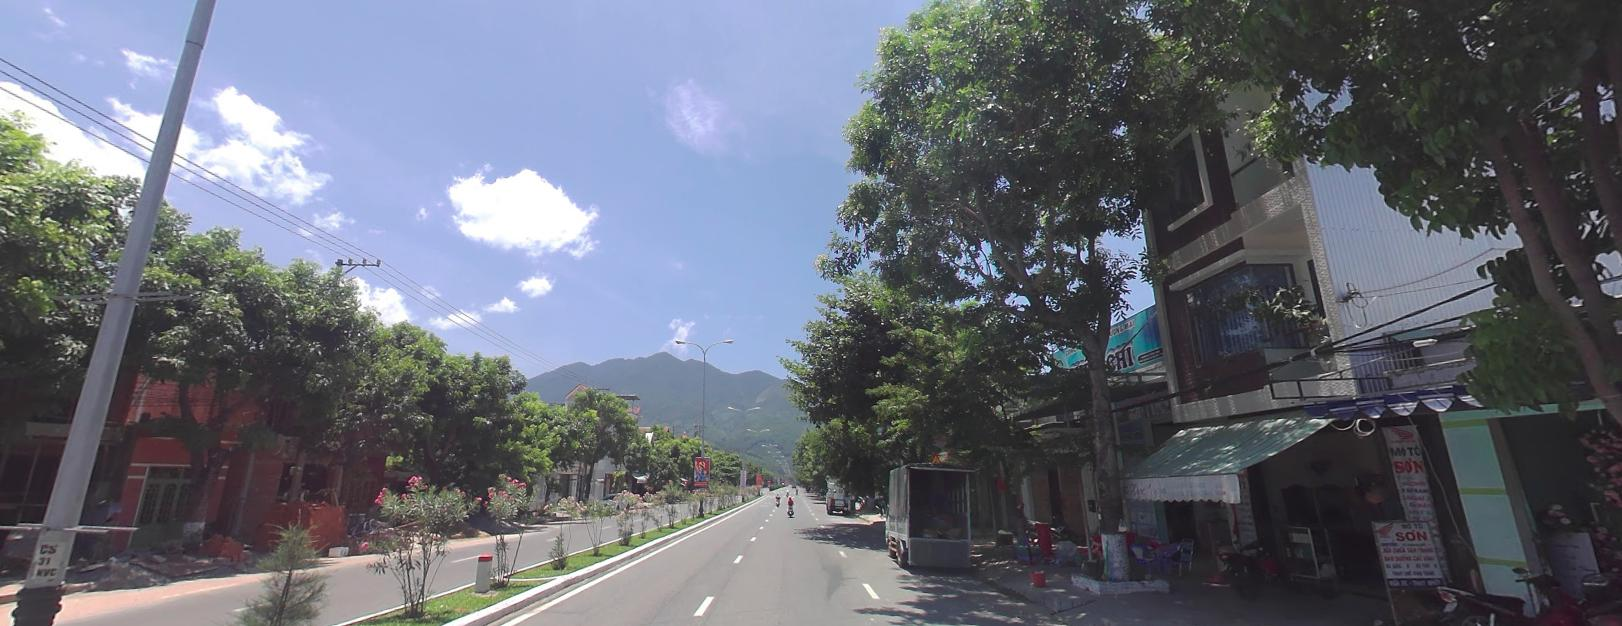Nguy hiem: (929, 450, 942, 465)
